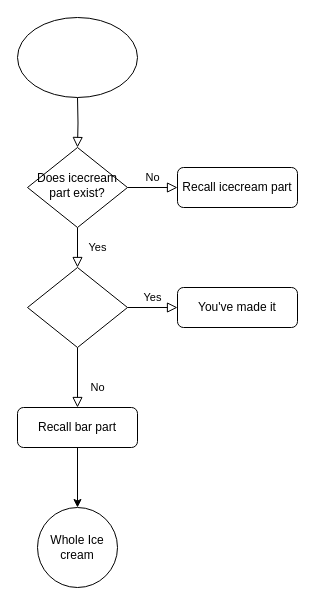
This 315x605 diagram has some shape labels left out. The shapes that lost their labels are listed below. From the top down, each one's box as (x1, y1, x2, y2) in pixels, then its label:
(16, 16, 138, 98): Make Ice cream
(26, 266, 128, 348): Does bar part exist
